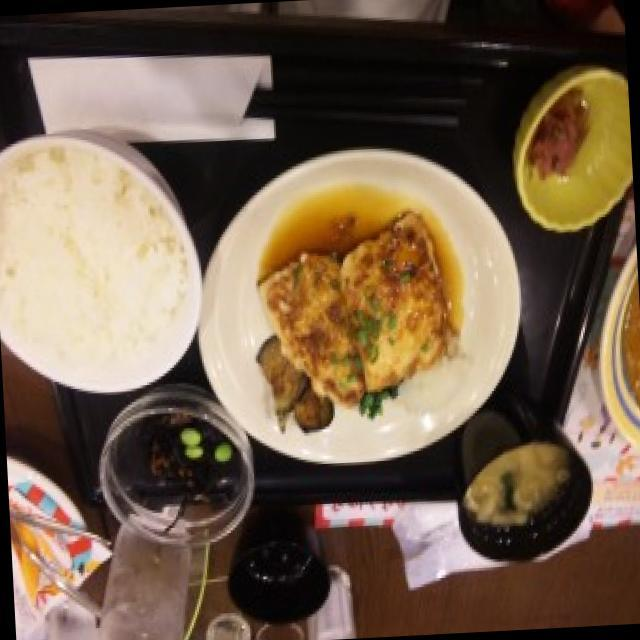Rice: (0, 155, 188, 375)
